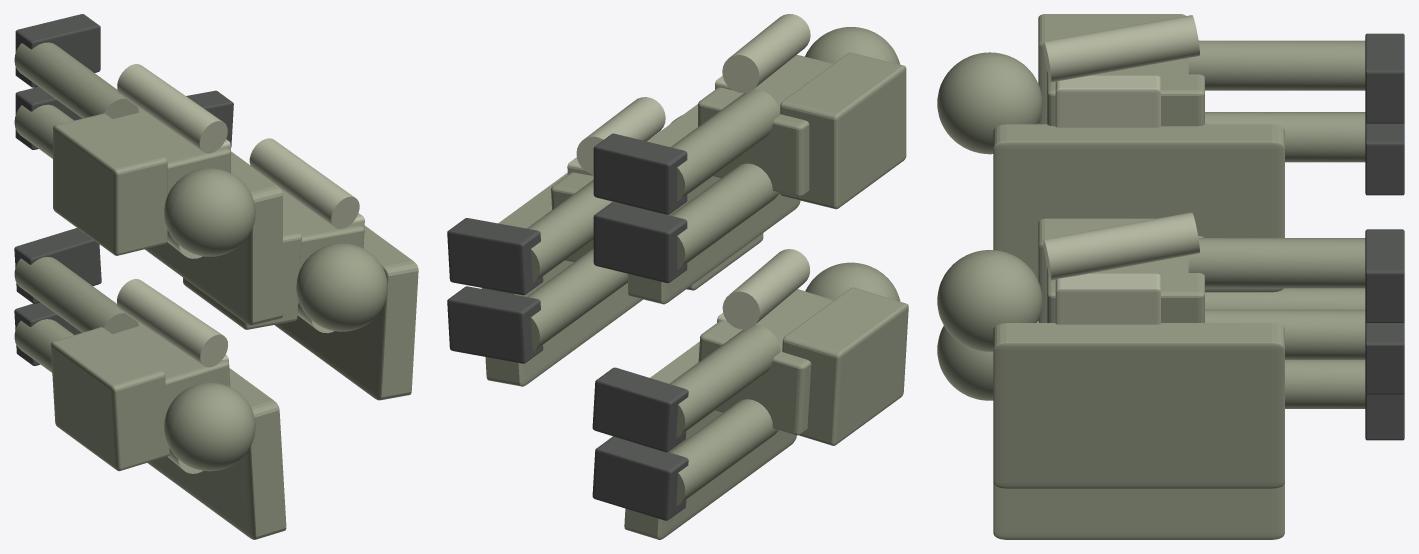
File: v-u02-vanguard-assault-infantry-lod1.glb
The picture shows the model from 3 angles, left to right: view 1: azimuth 30°, elevation 25°; view 2: azimuth 150°, elevation 25°; view 3: azimuth 270°, elevation 25°; orthographic projection. The views are drawn at different scales.
Parts seen in each view (by area): view 1: soldier_1_backpack, soldier_2_backpack, soldier_0_shield, soldier_1_shield, soldier_2_shield, soldier_1_helmet, soldier_0_helmet, soldier_2_helmet, soldier_1_leg_1, soldier_2_leg_1, soldier_2_arm_1, soldier_1_arm_1 (+12 smaller); view 2: soldier_1_backpack, soldier_2_backpack, soldier_2_torso, soldier_1_torso, soldier_2_boot_1, soldier_1_boot_1, soldier_1_boot_-1, soldier_2_boot_-1, soldier_0_boot_-1, soldier_0_boot_1, soldier_2_leg_1, soldier_1_leg_1 (+14 smaller); view 3: soldier_0_shield, soldier_1_shield, soldier_2_shield, soldier_0_leg_1, soldier_1_leg_1, soldier_0_helmet, soldier_1_helmet, soldier_0_arm_1, soldier_1_arm_1, soldier_1_chest, soldier_0_chest, soldier_0_leg_-1 (+13 smaller).
Part boxes in pixels (bbox=[...]): soldier_1_backpack: bbox=[53, 113, 167, 255]; soldier_2_backpack: bbox=[50, 327, 169, 471]; soldier_0_shield: bbox=[274, 225, 418, 400]; soldier_1_shield: bbox=[137, 106, 282, 325]; soldier_2_shield: bbox=[147, 368, 286, 539]; soldier_1_helmet: bbox=[164, 168, 255, 256]; soldier_0_helmet: bbox=[296, 243, 387, 331]; soldier_2_helmet: bbox=[164, 382, 255, 471]; soldier_1_leg_1: bbox=[14, 42, 138, 118]; soldier_2_leg_1: bbox=[14, 257, 138, 334]; soldier_2_arm_1: bbox=[117, 279, 227, 367]; soldier_1_arm_1: bbox=[117, 64, 227, 153]; soldier_1_backpack: bbox=[780, 52, 906, 209]; soldier_2_backpack: bbox=[782, 287, 908, 445]; soldier_2_torso: bbox=[698, 289, 833, 435]; soldier_1_torso: bbox=[698, 55, 833, 196]; soldier_2_boot_1: bbox=[592, 367, 688, 452]; soldier_1_boot_1: bbox=[593, 133, 687, 214]; soldier_1_boot_-1: bbox=[593, 202, 687, 283]; soldier_2_boot_-1: bbox=[592, 436, 688, 520]; soldier_0_boot_-1: bbox=[447, 286, 543, 363]; soldier_0_boot_1: bbox=[447, 218, 543, 295]; soldier_2_leg_1: bbox=[669, 325, 780, 437]; soldier_1_leg_1: bbox=[671, 89, 780, 201]; soldier_0_shield: bbox=[993, 323, 1284, 488]; soldier_1_shield: bbox=[993, 124, 1284, 292]; soldier_2_shield: bbox=[993, 483, 1284, 539]; soldier_0_leg_1: bbox=[1188, 238, 1365, 288]; soldier_1_leg_1: bbox=[1188, 40, 1365, 90]; soldier_0_helmet: bbox=[937, 250, 1042, 351]; soldier_1_helmet: bbox=[937, 52, 1042, 154]; soldier_0_arm_1: bbox=[1043, 212, 1199, 280]; soldier_1_arm_1: bbox=[1043, 15, 1199, 82]; soldier_1_chest: bbox=[1055, 75, 1160, 127]; soldier_0_chest: bbox=[1055, 273, 1160, 324]; soldier_0_leg_-1: bbox=[1205, 309, 1365, 359].
Size of what is drawn, in the model's own units: 1.73 by 2.45 by 2.13.
